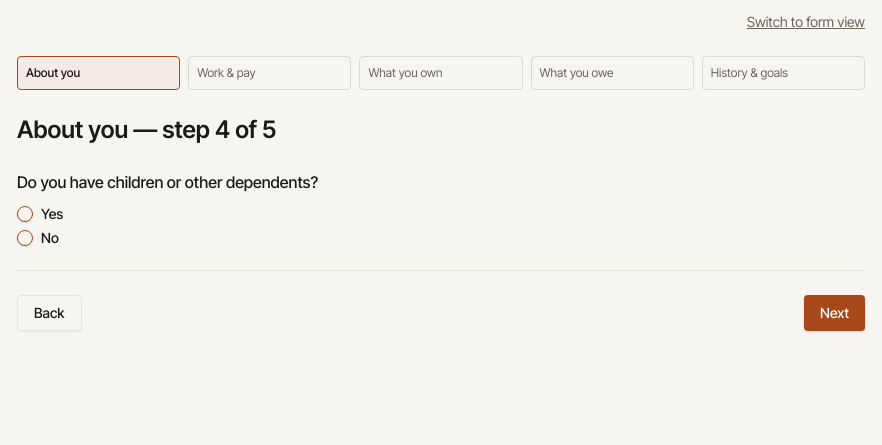
Test: FlowShell › dependents gate: No renders CW-31a; Next records skipped and creates nothing
Expected: the heading "About you — step 4 of 5" is shown, [17,115,276,144]
Click the radio button named "No" next to "No": (25, 238) [17,230,33,246]
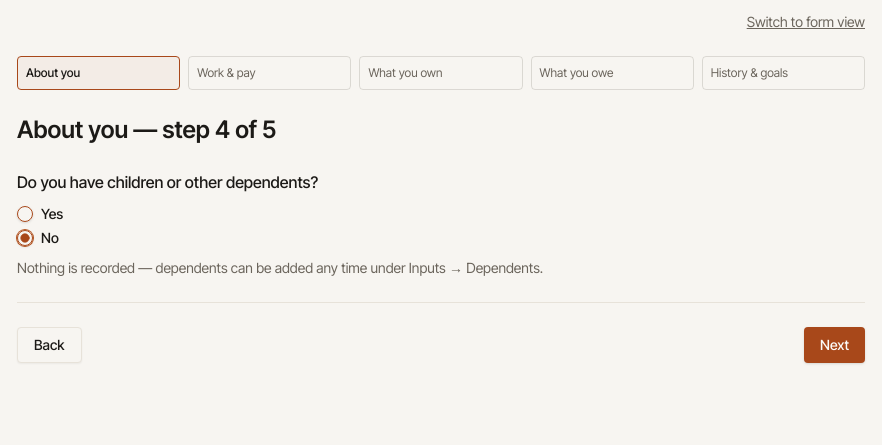
Expected: the text "Nothing is recorded — dependents can be added any time under Inputs → Dependents." is shown, [17,259,543,276]
Click the button "Next": (835, 345) [804,327,865,363]
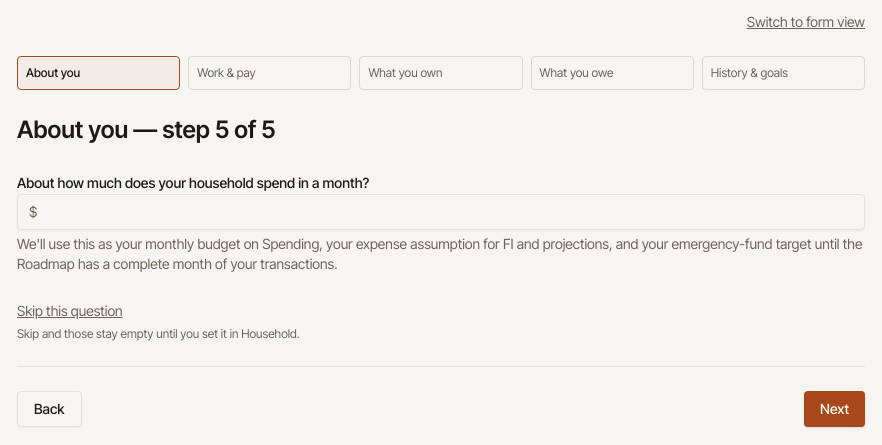
Expected: the heading "About you — step 5 of 5" is shown, [17,115,276,144]
